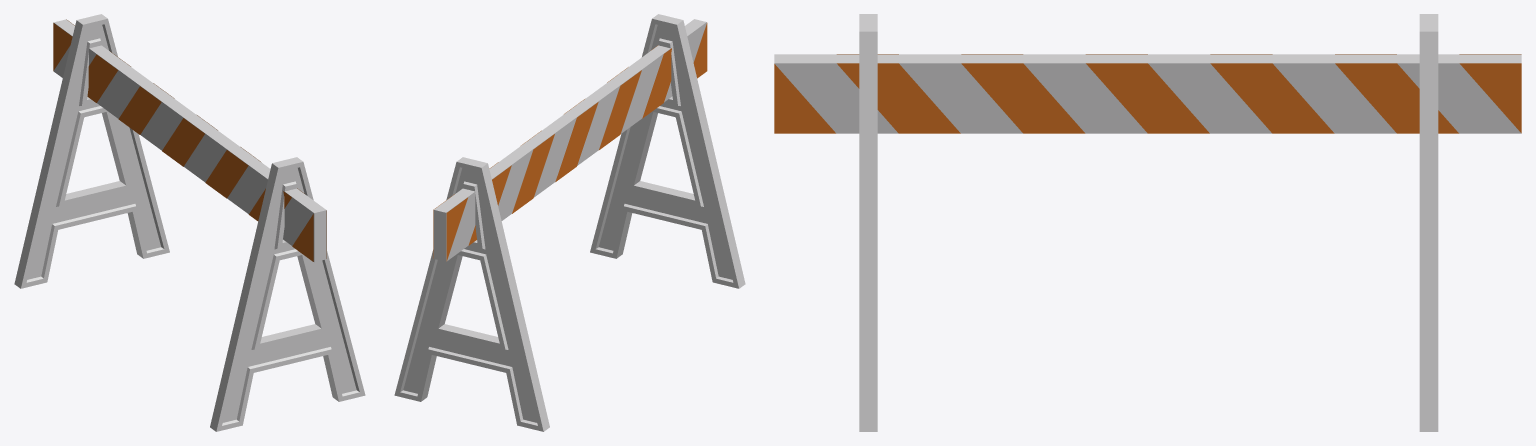
Rendered from SM_road_block_3.gltf.
3 views of the same model, side by side, from view 1: azimuth 30°, elevation 25°; view 2: azimuth 150°, elevation 25°; view 3: azimuth 270°, elevation 25° (orthographic). The views are drawn at different scales.
Visible parts, largest first — view 1: SM_road_block_3; view 2: SM_road_block_3; view 3: SM_road_block_3.
Part boxes in pixels (bbox=[...]): SM_road_block_3: bbox=[14, 14, 365, 431]; SM_road_block_3: bbox=[394, 14, 745, 431]; SM_road_block_3: bbox=[774, 14, 1521, 431].
Bounding box in the file's own units: 0.6045 × 0.9632 × 1.83.
1 material, 1 textured.
